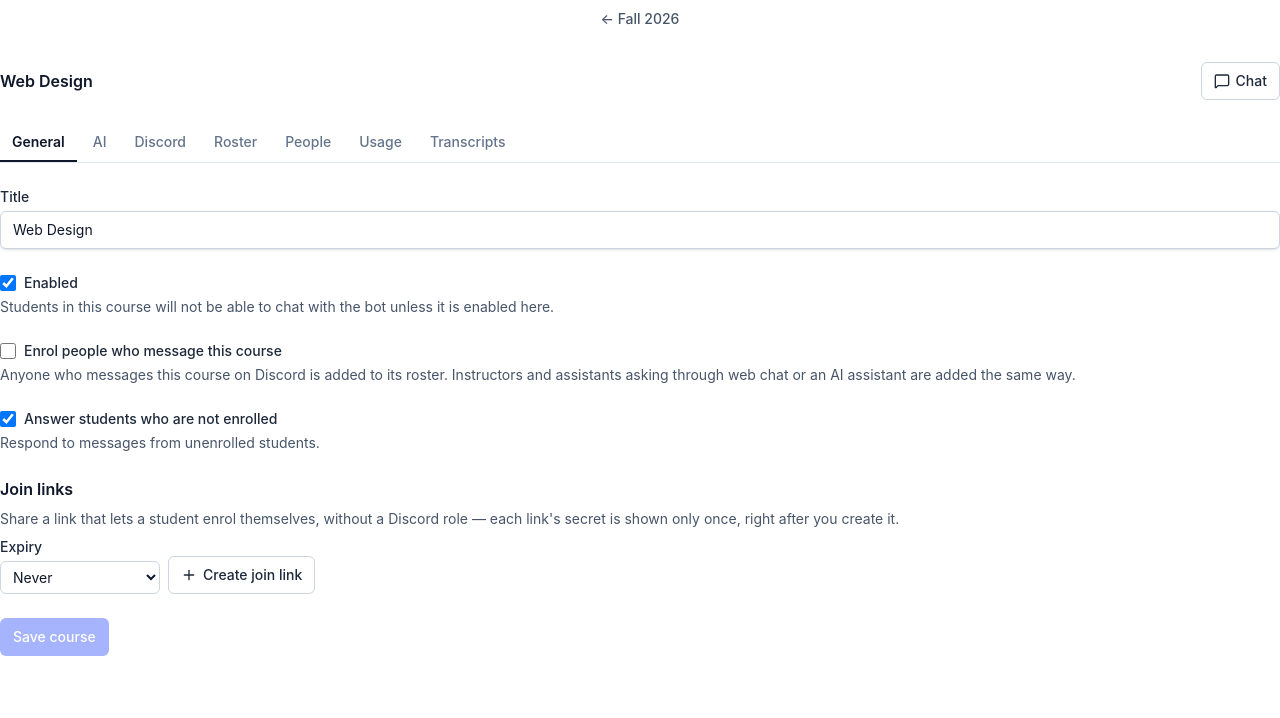
Test: CourseEditor unsaved-changes prompt on a tab switch › Discard changes throws the edit away and switches
Step 1. Replace the text in the field labelled "Title" with "Web Design II" → (640, 230), box [0, 211, 1279, 249]
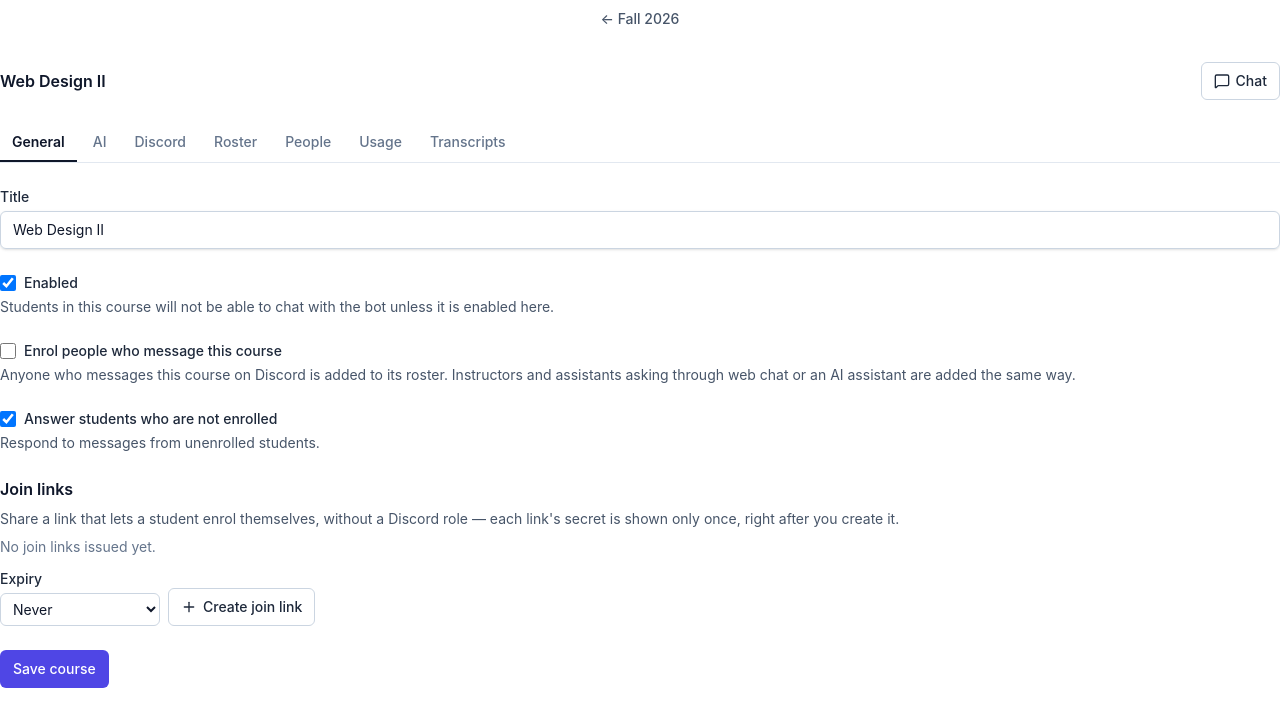
Step 2. Click the tab "AI" → (100, 143), box [81, 124, 119, 162]
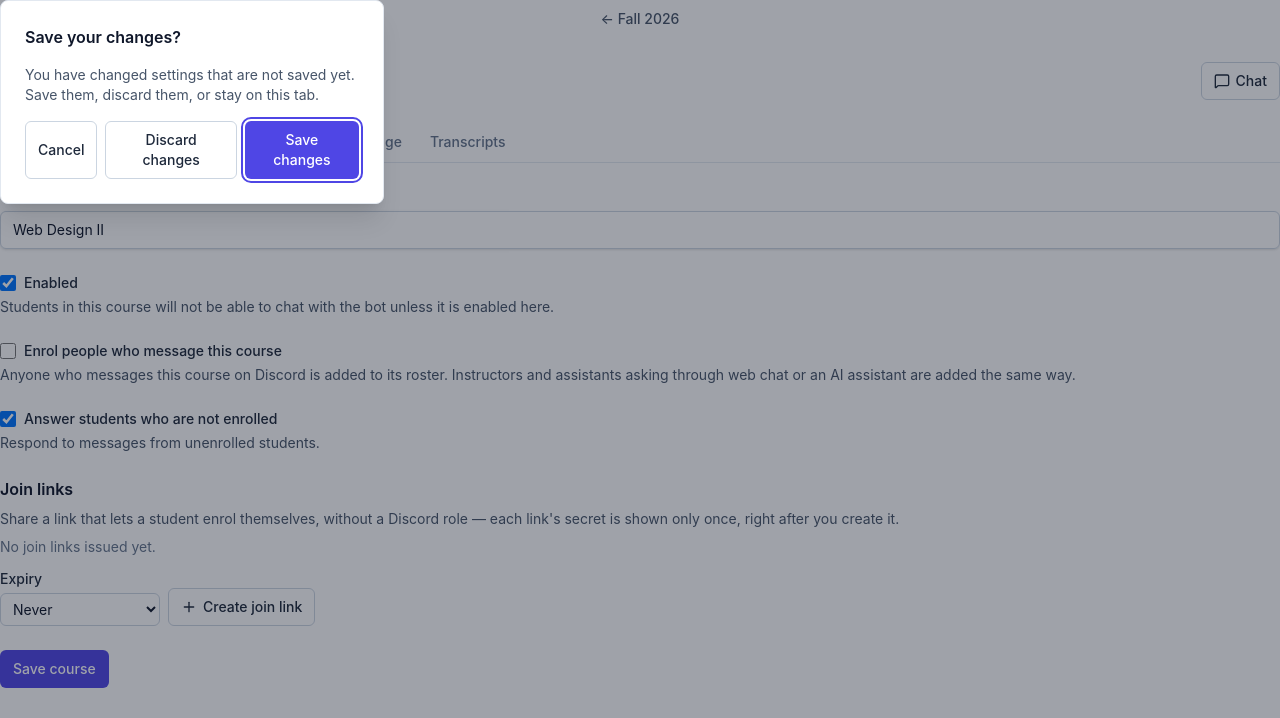
Expected: the dialog "Save your changes?" is shown, [0, 0, 384, 204]
Step 3. Click the button "Discard changes" → (171, 150), box [106, 121, 237, 179]
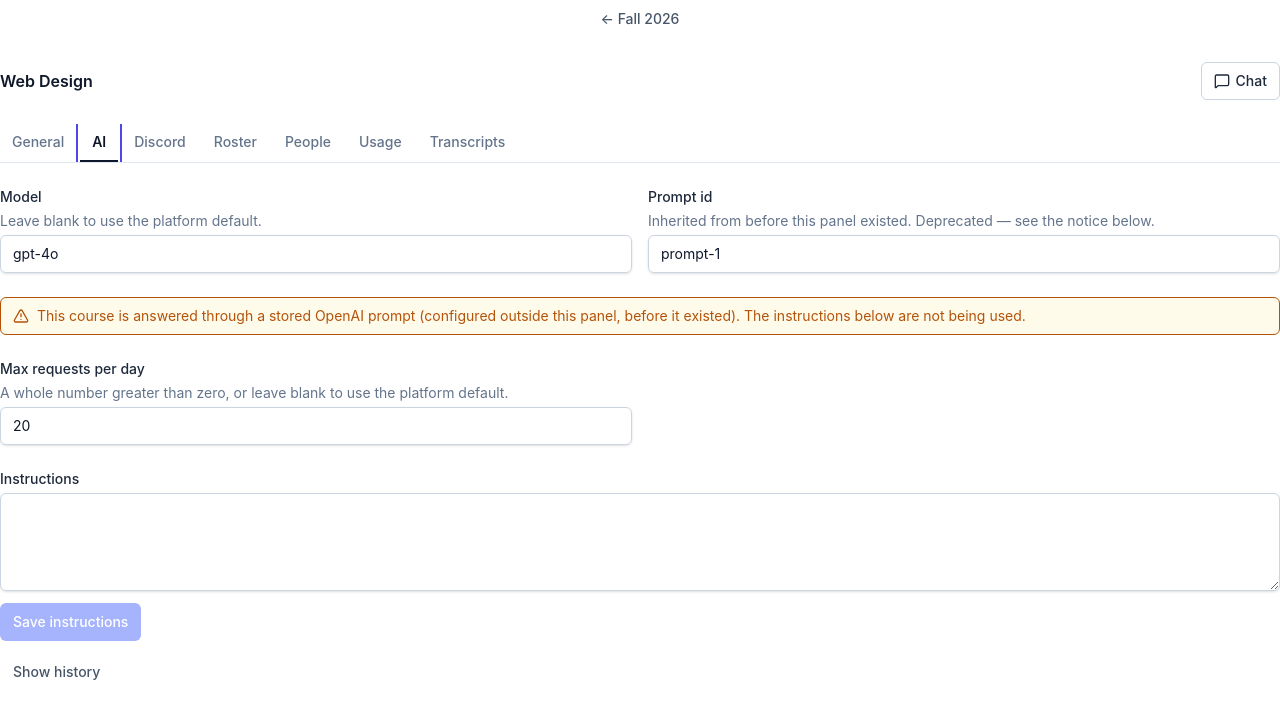
Expected: the tab "AI" is selected, [80, 124, 118, 162]
Back on General, the form reads what the server last agreed to.
Step 4. Click the tab "General" → (38, 143), box [0, 124, 76, 162]
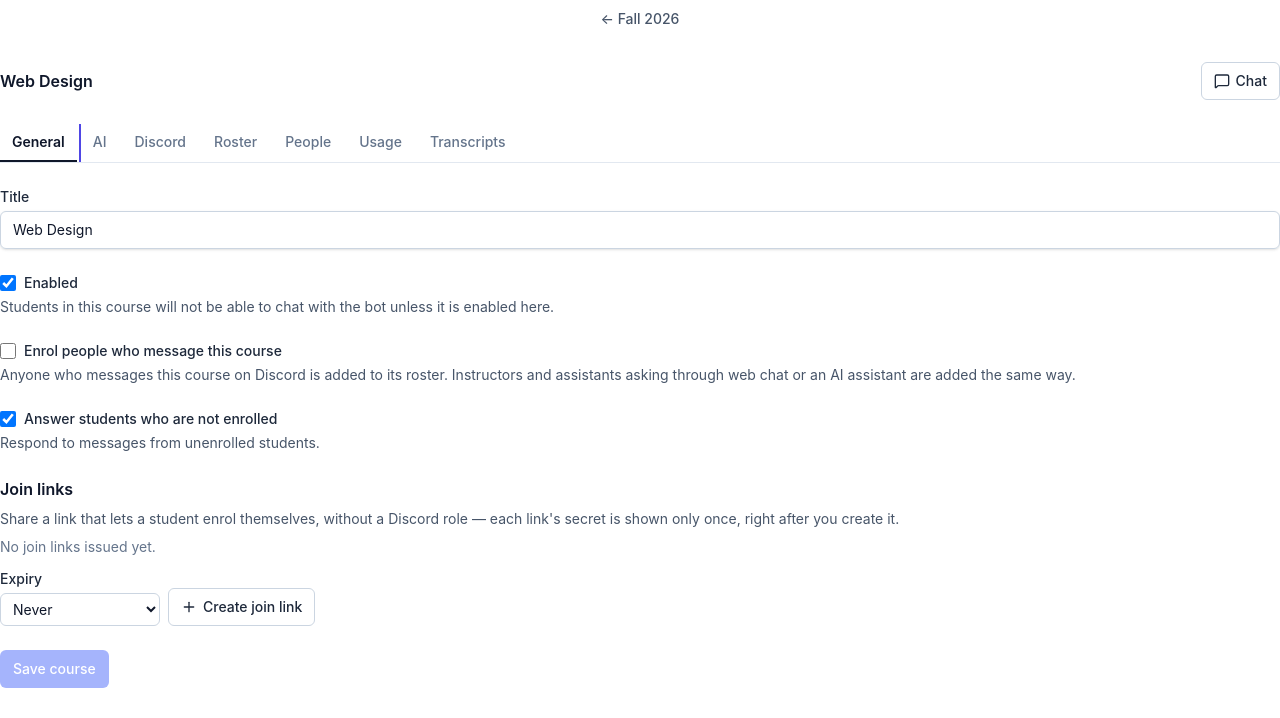
Expected: the field labelled "Title" holds "Web Design", [0, 211, 1279, 249]
